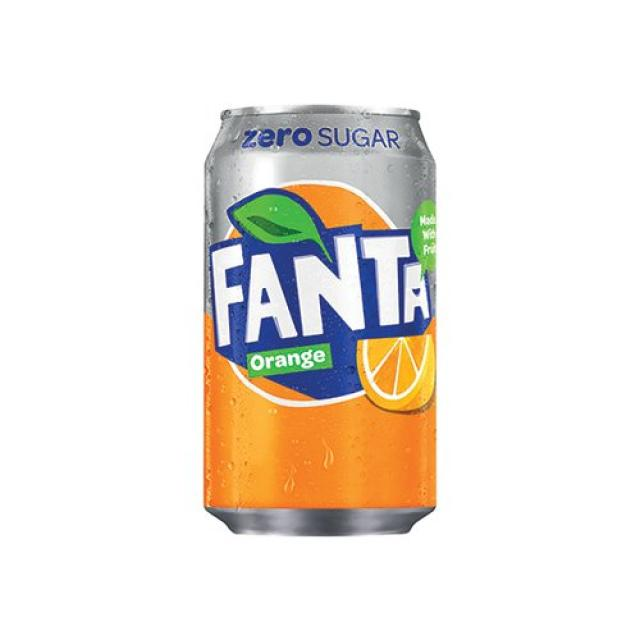fanta: (200, 108, 449, 554)
